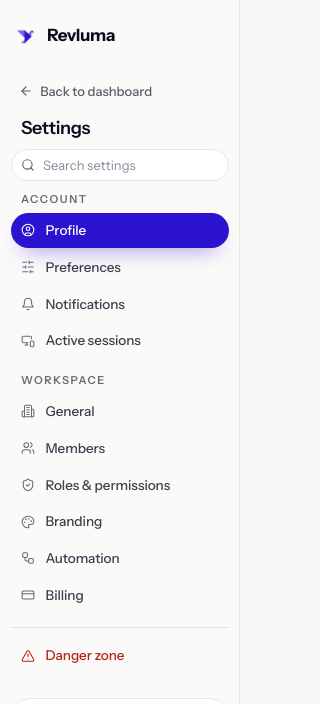
Test: Settings mode (one sidebar, never two) › filters settings, shows an empty state, and clears with Escape
The image size is (320, 704).
In the search field labelled "Search settings": (120, 165) [10,149,228,180], type "invoice"
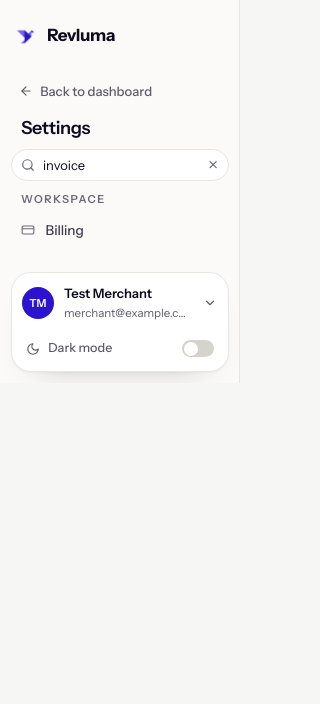
Expected: the link "Billing" is shown, [21,222,84,238]
Now the link "Profile" is gone
Replace the text in the search field named "Search settings" with "nothing-here": (120, 165) [10,149,228,180]
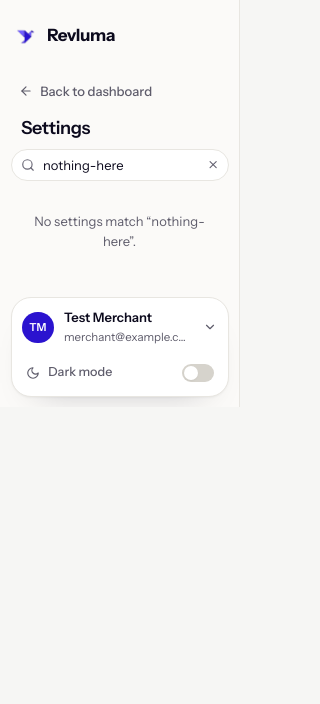
Now the message shows "No settings match", box [34,213,151,229]
Press Escape in the search field named "Search settings", box [10,149,228,180]
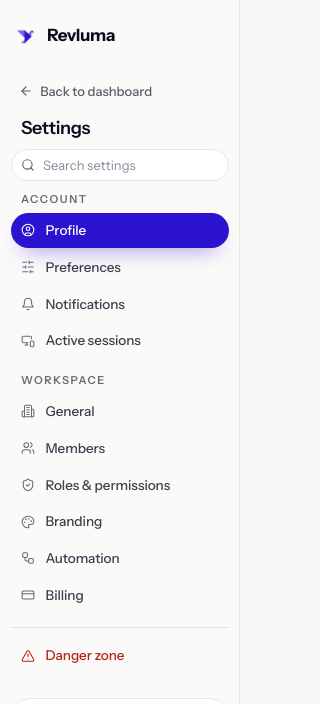
Now the search field labelled "Search settings" is empty, box [10,149,228,180]
Now the link "Profile" is shown, box [10,213,228,248]
